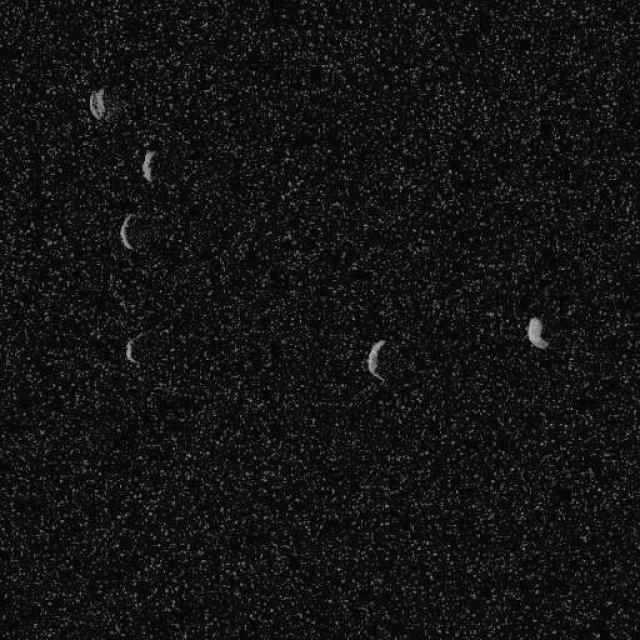D2: (365, 338, 386, 382), (525, 315, 549, 350), (124, 331, 145, 365), (118, 211, 136, 250), (88, 86, 106, 122), (140, 148, 156, 182)
